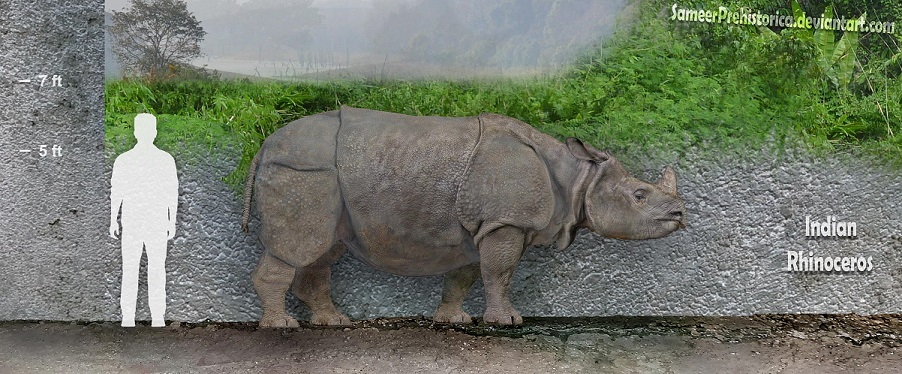rhinoceros: (240, 94, 686, 348)
